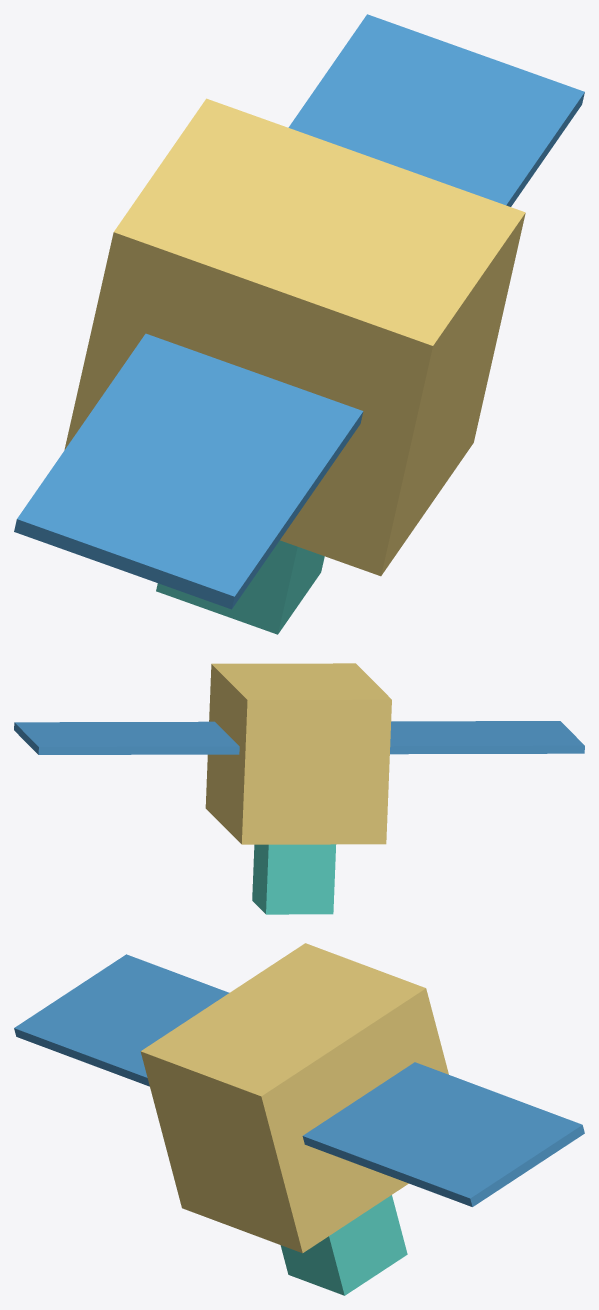
The model's file is orbital-spectrometer.gltf.
3 renders of one model, top to bottom at view 1: azimuth 30°, elevation 25°; view 2: azimuth 150°, elevation 25°; view 3: azimuth 270°, elevation 25°, orthographic. The views are drawn at different scales.
Parts seen in each view (by area): view 1: BusChassis, SolarArrayWing, SwirSpectrometerOptics; view 2: BusChassis, SolarArrayWing, SwirSpectrometerOptics; view 3: BusChassis, SolarArrayWing, SwirSpectrometerOptics.
Boxes of the visible parts, box(x1,y1,x2,y2) form: BusChassis: box(64, 98, 525, 576); SolarArrayWing: box(14, 14, 584, 609); SwirSpectrometerOptics: box(156, 540, 324, 634); BusChassis: box(205, 663, 391, 844); SolarArrayWing: box(14, 721, 584, 754); SwirSpectrometerOptics: box(252, 844, 336, 914); BusChassis: box(140, 943, 448, 1253); SolarArrayWing: box(14, 954, 584, 1206); SwirSpectrometerOptics: box(280, 1195, 407, 1295).
Bounding box in the file's own units: 3.06 × 1.59 × 2.77.
